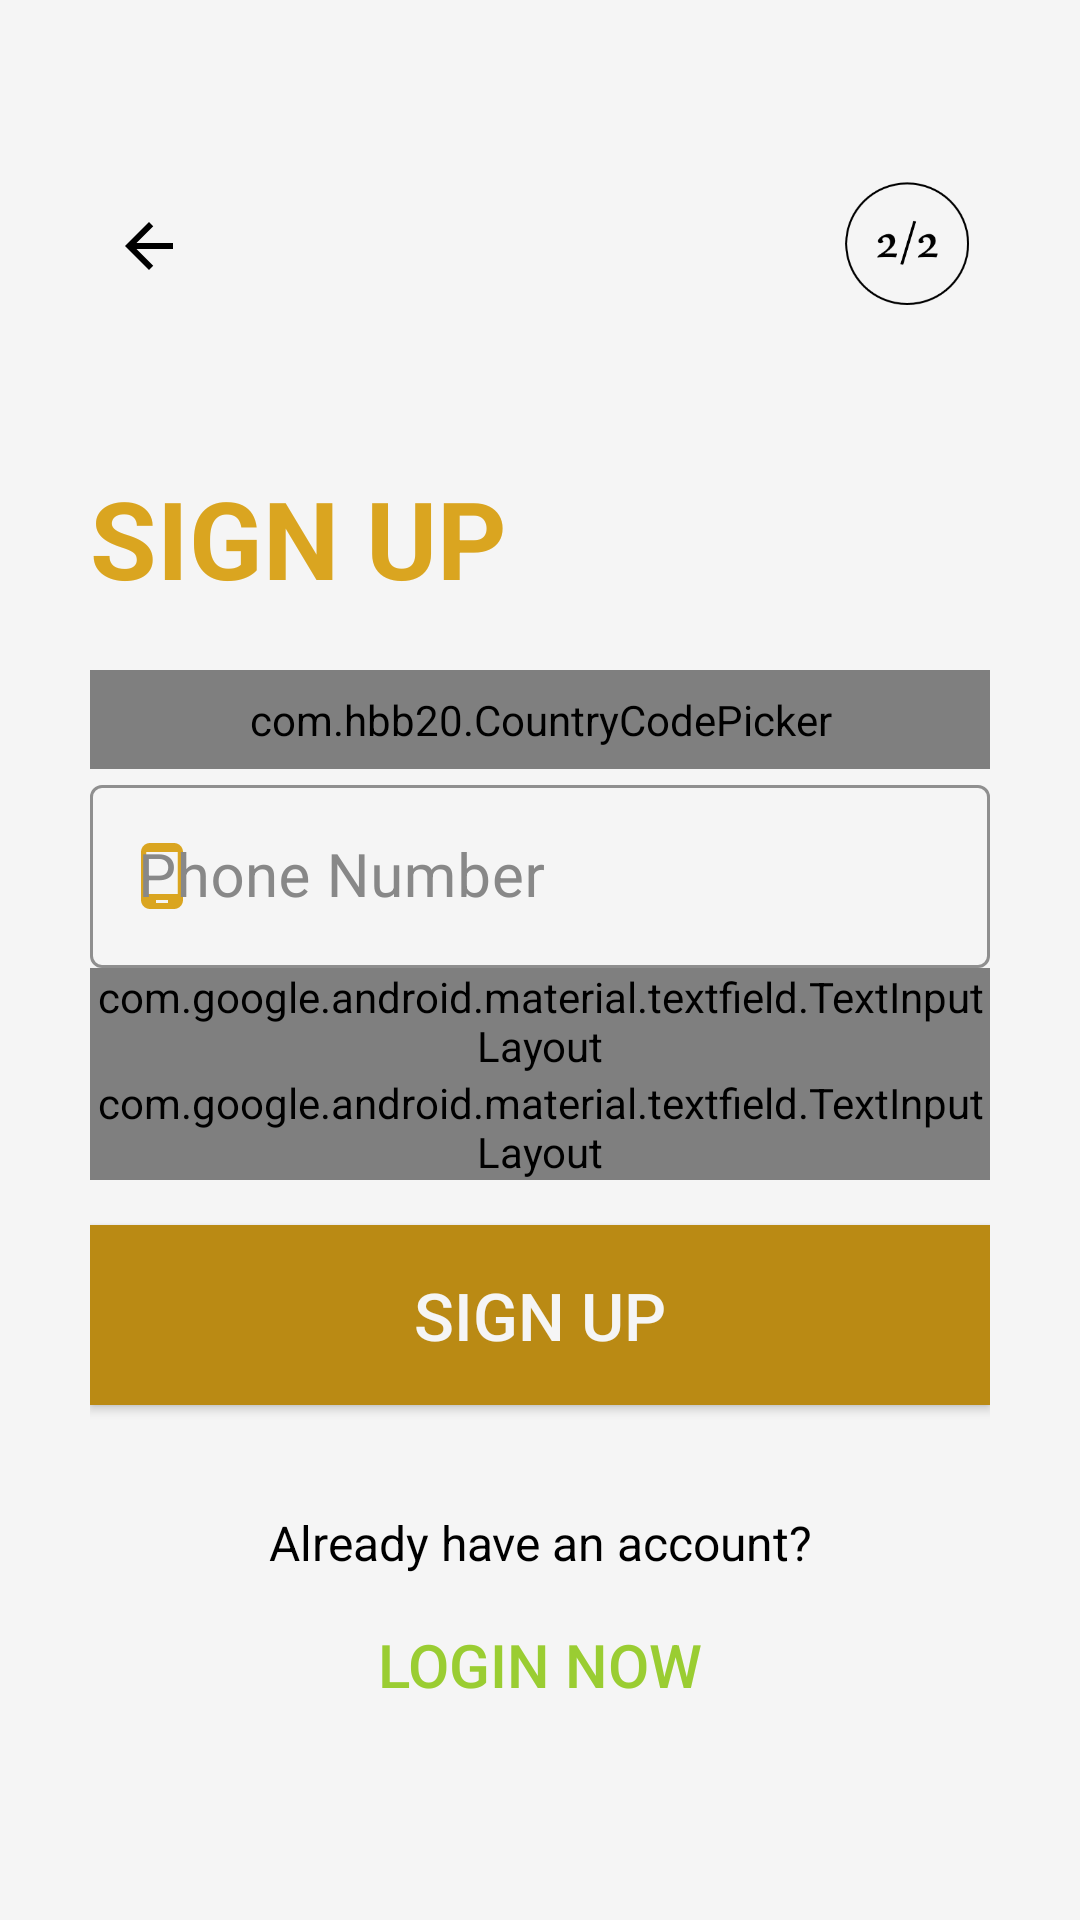

Named icons in this screenshot (1080px x 1920px) and their bounding boxes, (x1, y1, x2, y2):
arrow back: (125, 222, 173, 270)
